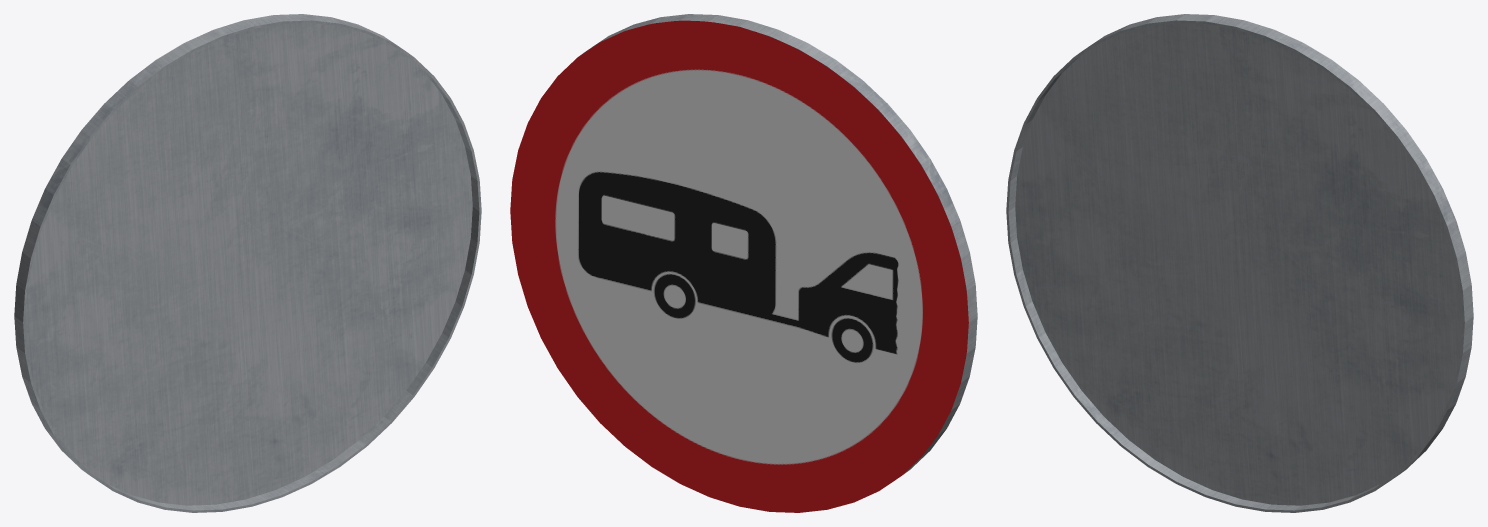
The model's file is Towed_caravans_prohibited.fbx.
3 views of the same model, side by side, from view 1: azimuth 30°, elevation 25°; view 2: azimuth 150°, elevation 25°; view 3: azimuth 330°, elevation 25° (orthographic).
Parts seen in each view (by area): view 1: Towed caravans prohibited; view 2: Towed caravans prohibited; view 3: Towed caravans prohibited.
Part boxes in pixels (x1,y1,x2,y2): Towed caravans prohibited: (14, 14, 481, 512); Towed caravans prohibited: (510, 14, 977, 512); Towed caravans prohibited: (1006, 14, 1473, 512).
Bounding box in the file's own units: 0.02 × 0.6 × 0.6.
